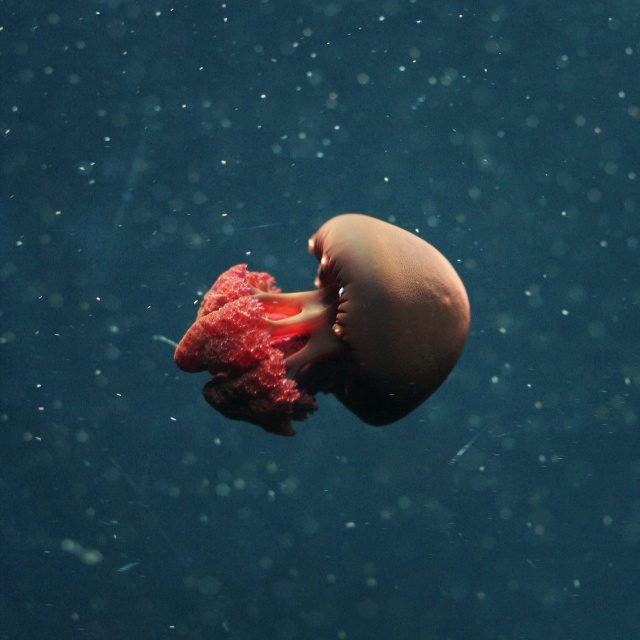Jellyfish: (175, 214, 470, 436)
